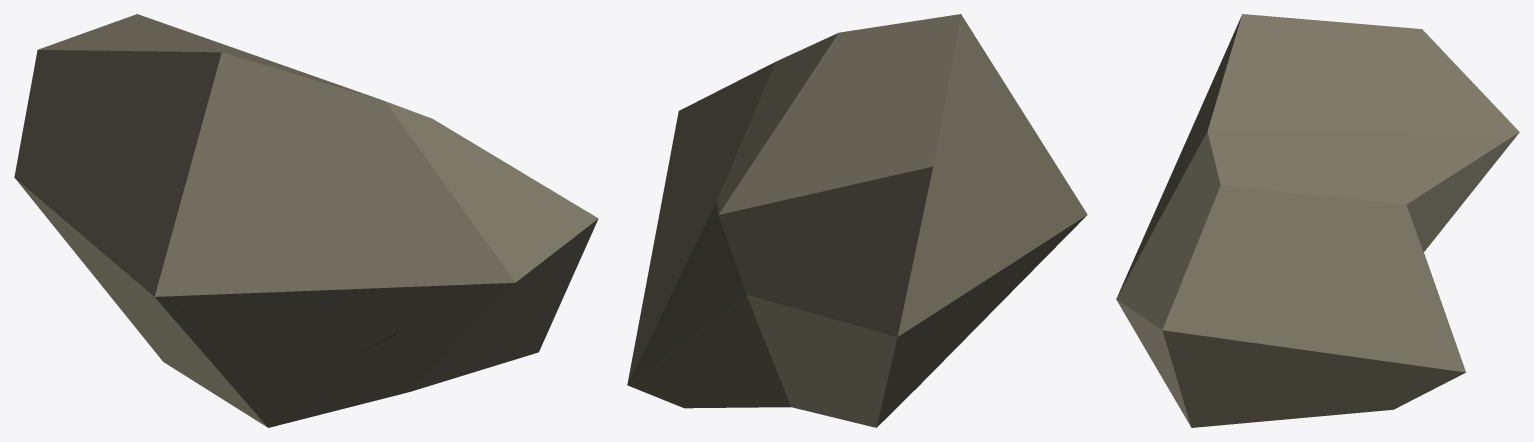
The model's file is rock2.glb.
3 renders of one model, left to right at view 1: azimuth 30°, elevation 25°; view 2: azimuth 150°, elevation 25°; view 3: azimuth 270°, elevation 25°, orthographic. The views are drawn at different scales.
Visible parts, largest first — view 1: Cube; view 2: Cube; view 3: Cube.
Part boxes in pixels (x1=…): Cube: x1=14, y1=14, x2=598, y2=427; Cube: x1=627, y1=14, x2=1087, y2=427; Cube: x1=1116, y1=14, x2=1519, y2=427.
Bounding box in the file's own units: 4.99 × 4.3 × 4.83.
Materials: 1 (1 with a texture image).
